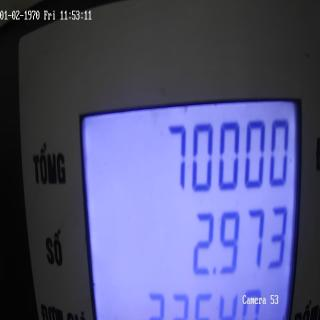screen: (75, 85, 306, 320)
